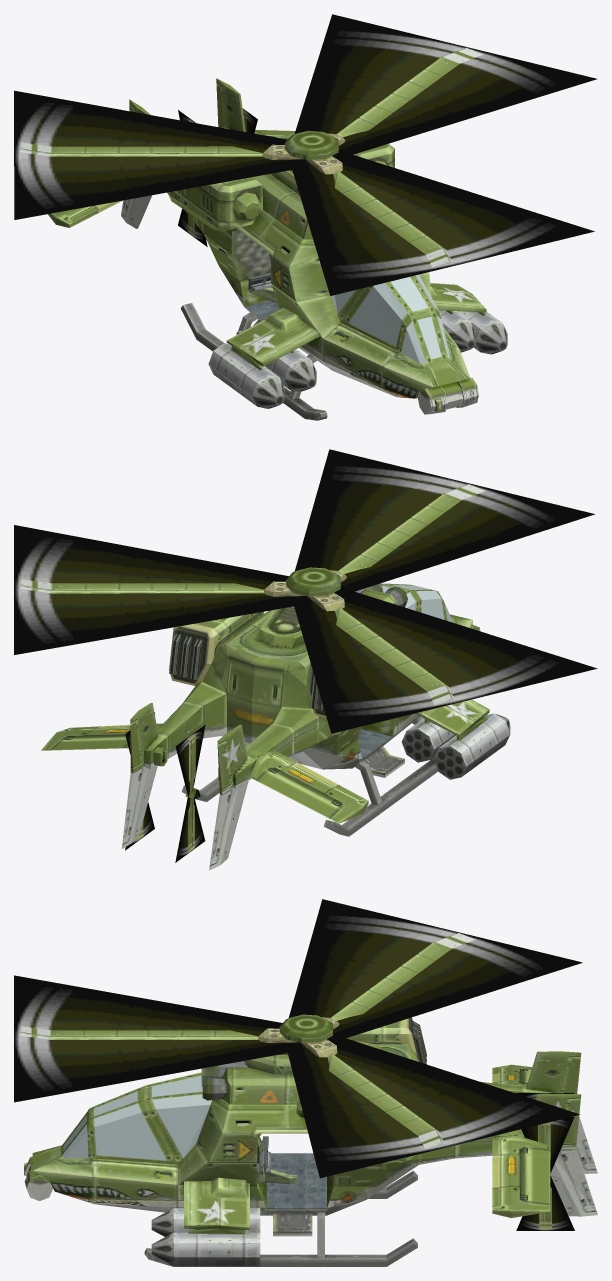
File: VWFGSHPH.obj
The picture shows the model from 3 angles, top to bottom: view 1: azimuth 30°, elevation 25°; view 2: azimuth 150°, elevation 25°; view 3: azimuth 270°, elevation 25°; orthographic projection. The views are drawn at different scales.
Parts seen in each view (by area): view 1: Node 23, Node 0, Node 22, Node 17, Node 2, Node 20; view 2: Node 23, Node 0, Node 22, Node 20, Node 2, Node 19, Node 17; view 3: Node 23, Node 0, Node 22, Node 17, Node 20, Node 19.
Part boxes in pixels (left/top/right/bottom): Node 23: left=14, top=14, right=596, bottom=295; Node 0: left=48, top=78, right=507, bottom=420; Node 22: left=20, top=48, right=483, bottom=267; Node 17: left=341, top=274, right=439, bottom=350; Node 2: left=226, top=319, right=319, bottom=366; Node 20: left=178, top=108, right=257, bottom=246; Node 23: left=14, top=449, right=597, bottom=733; Node 0: left=41, top=583, right=510, bottom=870; Node 22: left=20, top=484, right=485, bottom=705; Node 20: left=125, top=712, right=205, bottom=862; Node 2: left=414, top=699, right=489, bottom=736; Node 19: left=137, top=734, right=200, bottom=852; Node 17: left=383, top=583, right=446, bottom=620; Node 23: left=14, top=899, right=582, bottom=1178; Node 0: left=24, top=1017, right=597, bottom=1266; Node 22: left=20, top=933, right=475, bottom=1149; Node 17: left=89, top=1086, right=177, bottom=1164; Node 20: left=516, top=1093, right=574, bottom=1230; Node 19: left=538, top=1122, right=551, bottom=1228.
Size of the model in its own units: 13.14 by 4.54 by 11.61.
Materials: 18 (18 with a texture image).
